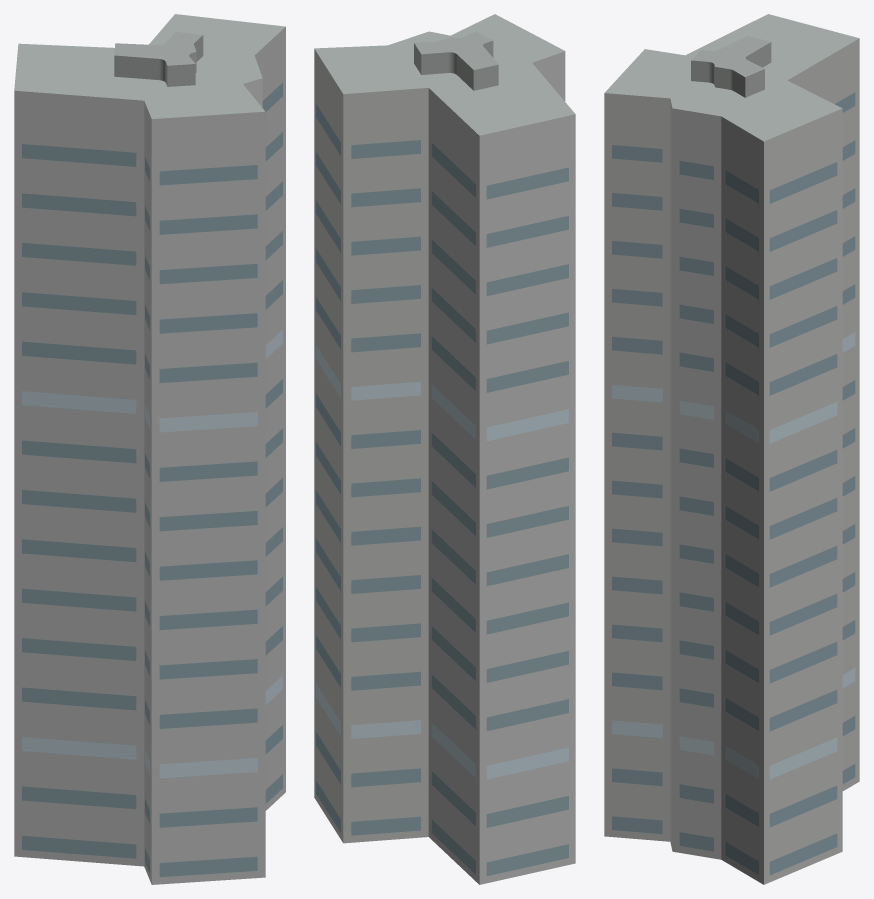
The model's file is fallback-gangdong-lotte-castle-first-129.glb.
3 views of the same model, side by side, from view 1: azimuth 30°, elevation 25°; view 2: azimuth 150°, elevation 25°; view 3: azimuth 270°, elevation 25° (orthographic). The views are drawn at different scales.
Parts seen in each view (by area): view 1: fallback-gangdong-lotte-castle-first-129; view 2: fallback-gangdong-lotte-castle-first-129; view 3: fallback-gangdong-lotte-castle-first-129.
Boxes of the visible parts, x1=… form: fallback-gangdong-lotte-castle-first-129: x1=14, y1=14, x2=285, y2=884; fallback-gangdong-lotte-castle-first-129: x1=314, y1=14, x2=575, y2=884; fallback-gangdong-lotte-castle-first-129: x1=604, y1=14, x2=859, y2=884.
Bounding box in the file's own units: 31.88 × 89 × 26.95.
